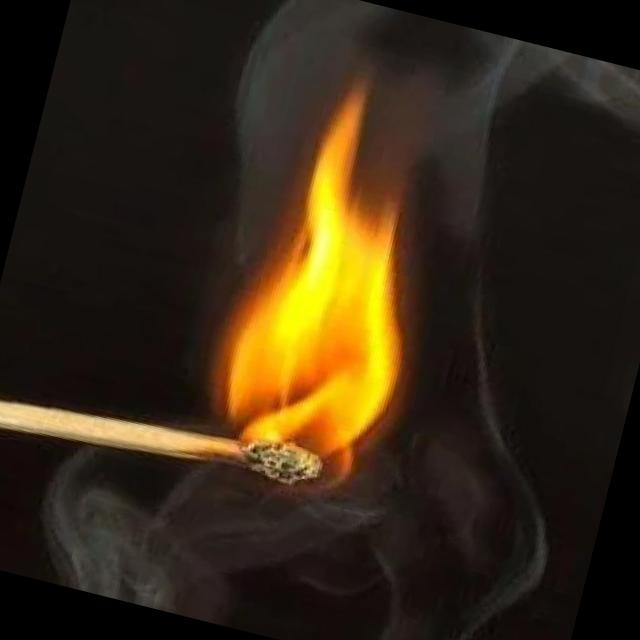Fire: (168, 58, 470, 504)
